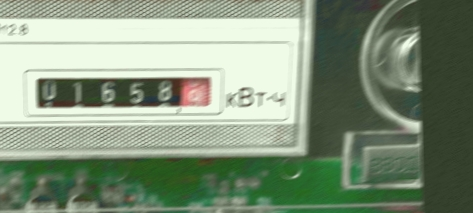0: (42, 76, 55, 98)
1: (72, 78, 82, 101)
5: (129, 78, 143, 101)
6: (100, 78, 114, 100)
8: (157, 76, 171, 99)
9: (185, 85, 199, 106)
screen: (17, 57, 231, 122)
